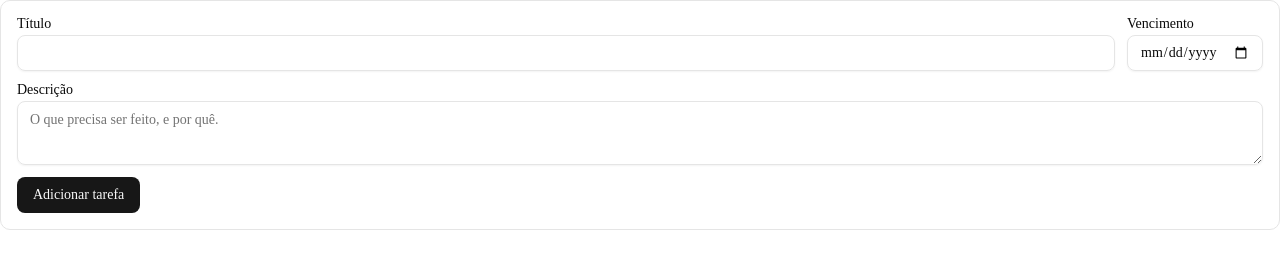
Scenario: TaskForm › falha de REDE: avisa em vez de ficar em silêncio
Type "Tarefa qualquer" into the field labelled "Título". click: (566, 53)
box: [17,35,1115,71]
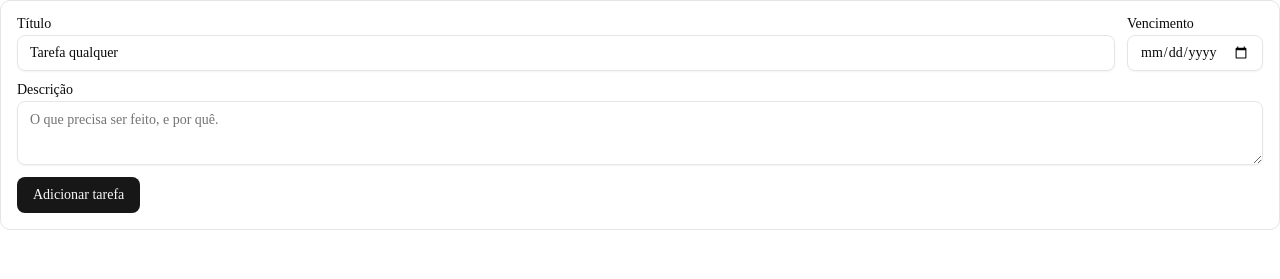
Type "2026-08-05" into the date field labelled "Vencimento". click: (1195, 53)
box: [1127,35,1263,71]
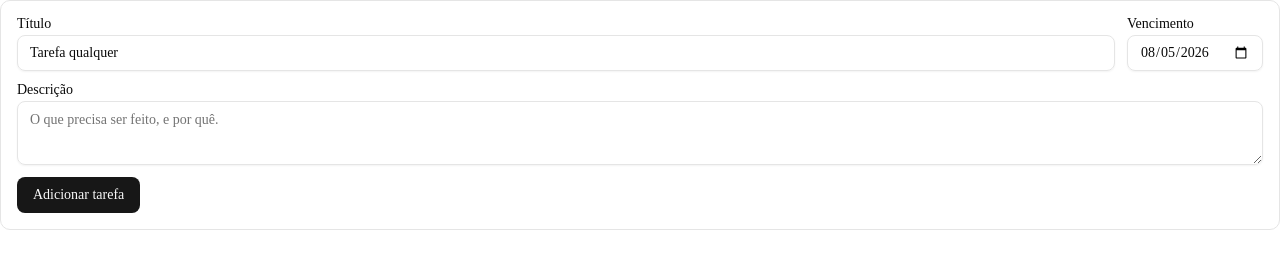
Click the button "Adicionar tarefa". click: (79, 195)
box: [17,177,140,213]
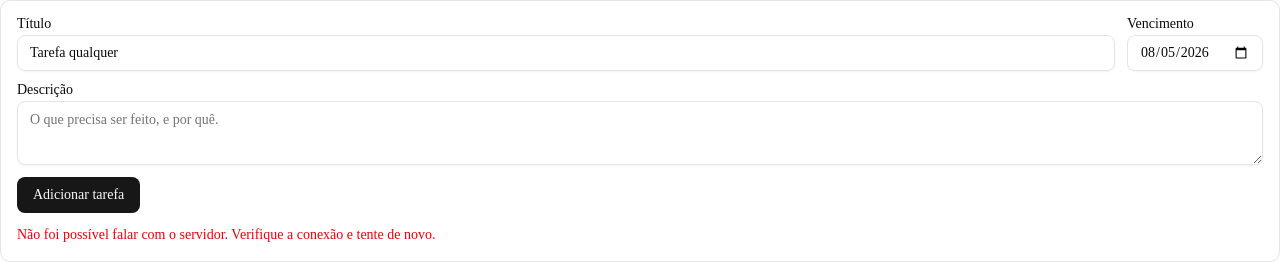
Expected: the message shows "falar com o servidor", [17,227,436,242]
